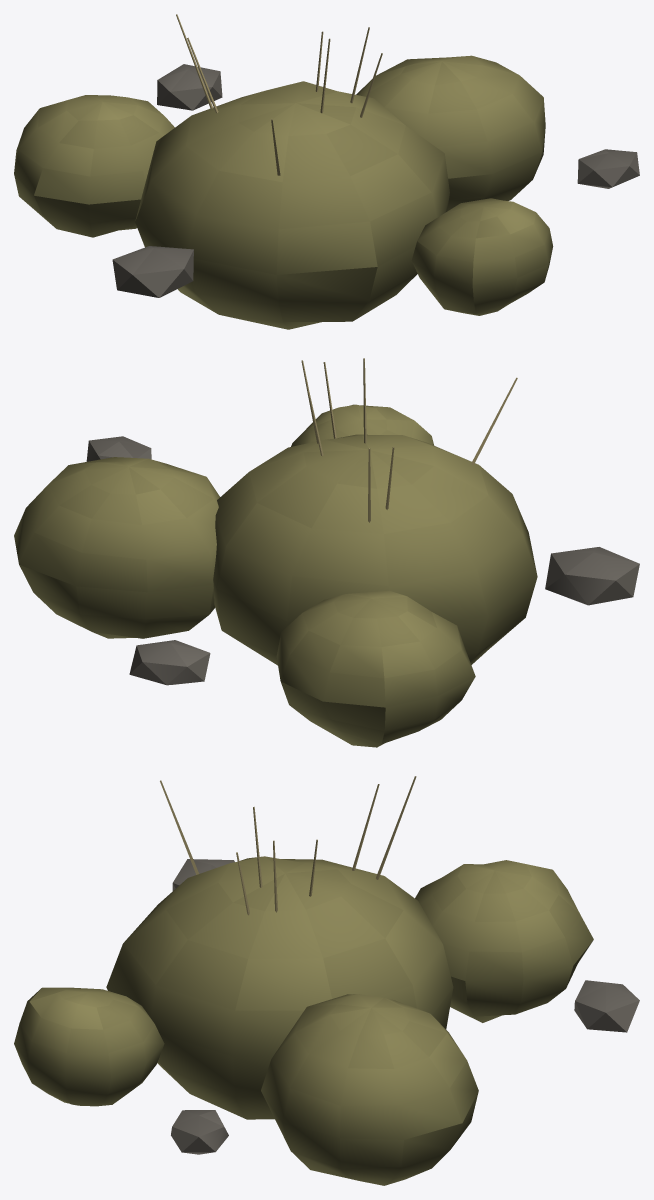
Rendered from matorral_barda_a.glb.
The picture shows the model from 3 angles, top to bottom: view 1: azimuth 30°, elevation 25°; view 2: azimuth 150°, elevation 25°; view 3: azimuth 270°, elevation 25°; orthographic projection. The views are drawn at different scales.
Parts seen in each view (by area): view 1: MatorralBardaA; view 2: MatorralBardaA; view 3: MatorralBardaA.
Part boxes in pixels (x1,y1,x2,y2): MatorralBardaA: (14, 14, 639, 329); MatorralBardaA: (14, 358, 639, 747); MatorralBardaA: (14, 776, 639, 1185).
Size of the model in its own units: 2.63 by 1.34 by 2.54.
